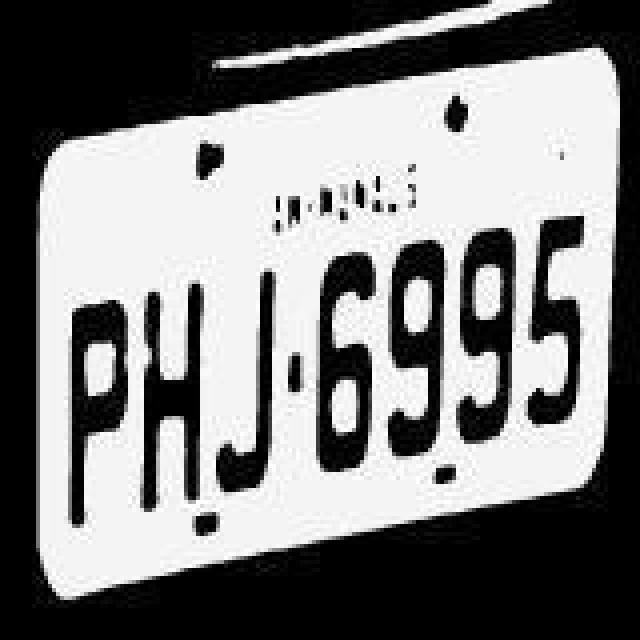5: (522, 198, 590, 426)
6: (304, 230, 384, 474)
9: (452, 206, 524, 450), (380, 218, 452, 462)
H: (134, 262, 210, 514)
J: (200, 250, 280, 502)
P: (54, 278, 130, 530)
